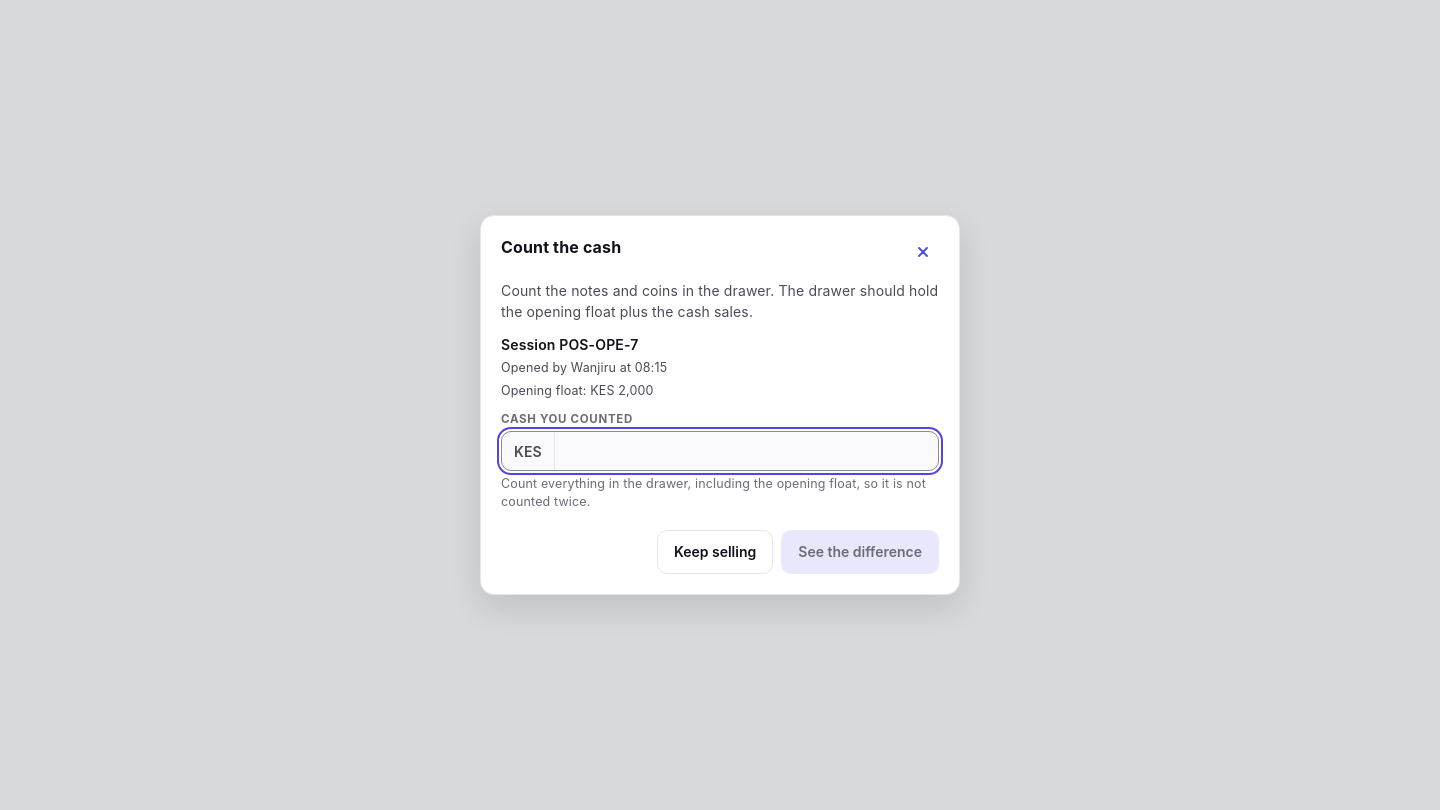
Test: the shift-end count dialog › asks the server to preview the count and does not close anything
Type "5400" into the field labelled "Cash you counted".
click(746, 451); type("5400")  # box [555,432,938,470]
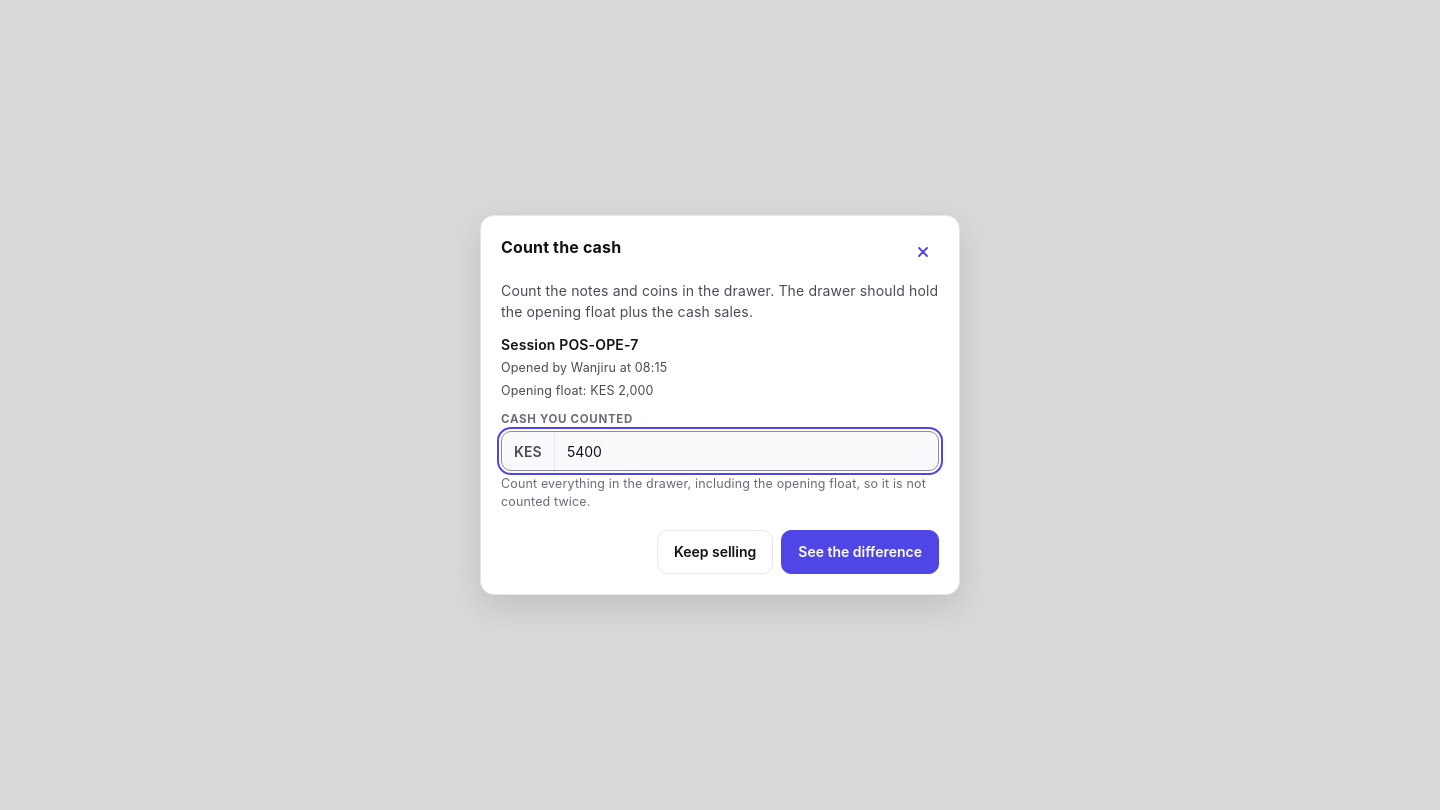
Click the button "See the difference".
click(860, 552)  # box [781,530,939,574]
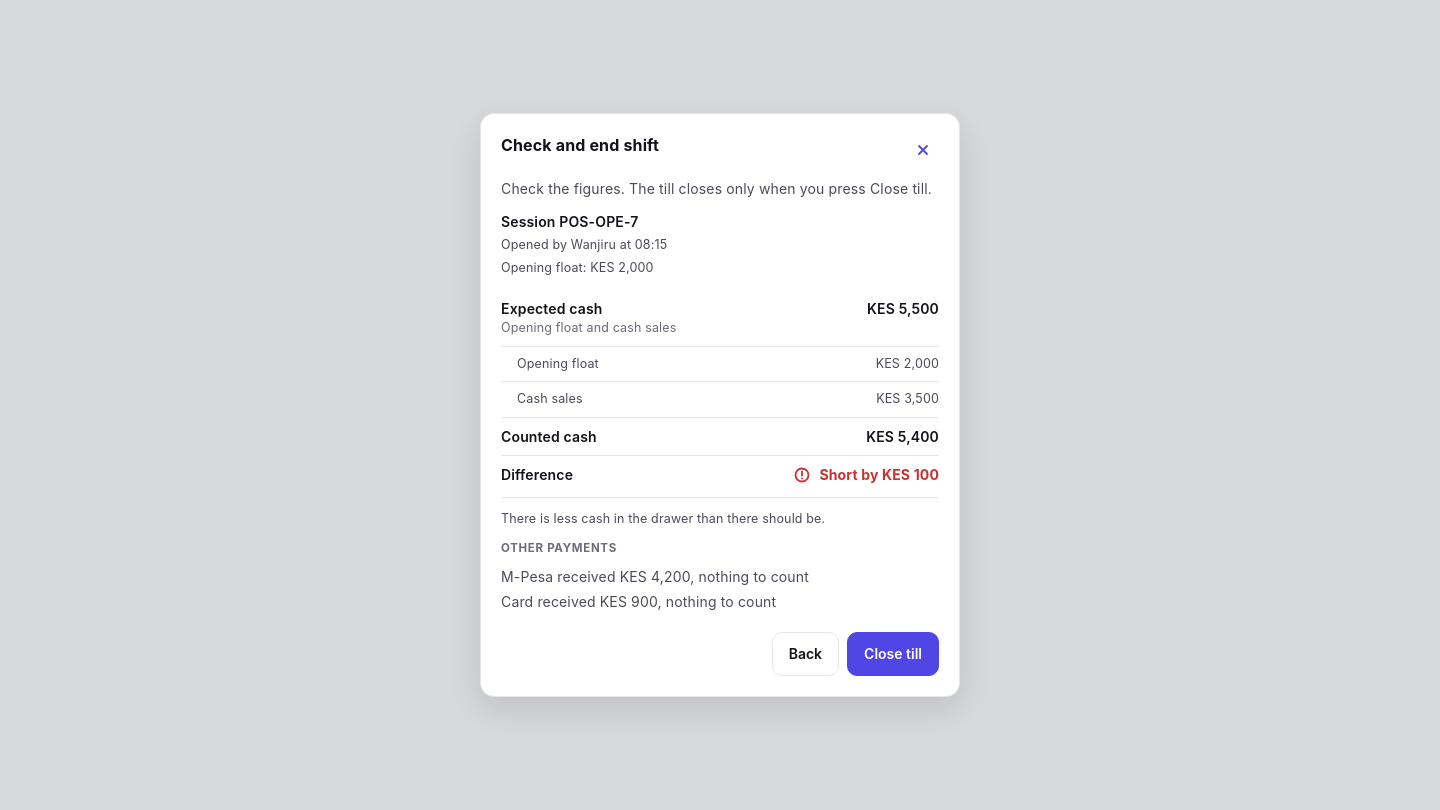
Check: the dialog "Check and end shift" is shown, box [480,113,960,697]
